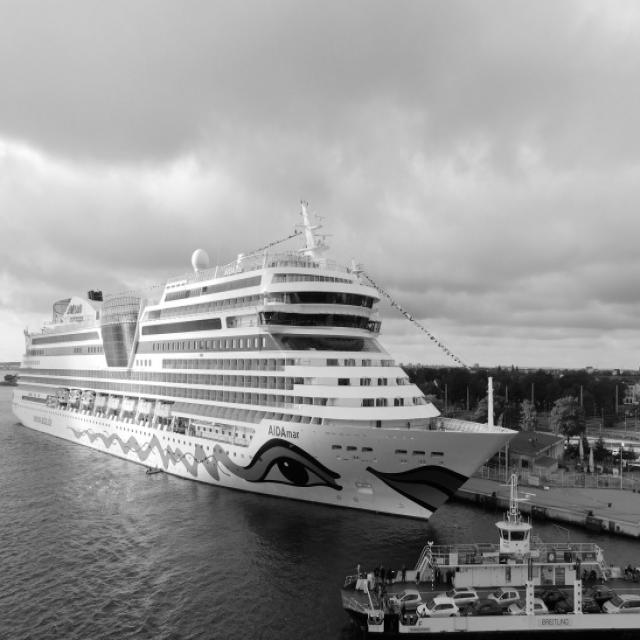cruises: (10, 205, 518, 535)
